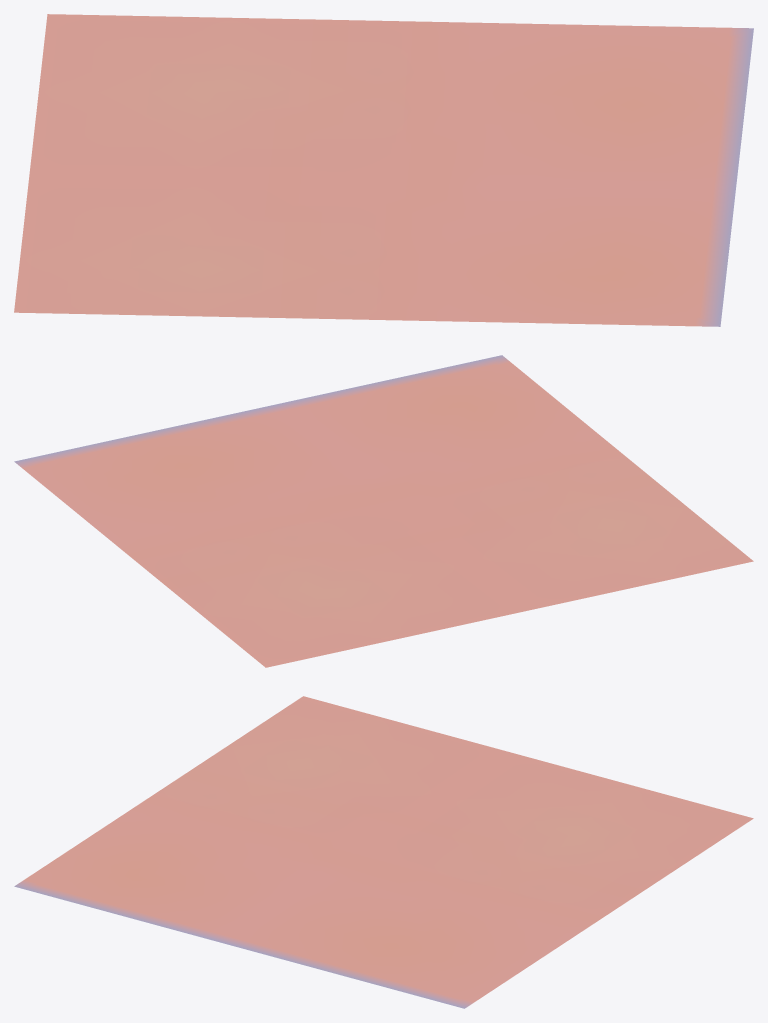
The model's file is Floor #478321.fbx.
3 views of the same model, one above another, from view 1: azimuth 30°, elevation 25°; view 2: azimuth 150°, elevation 25°; view 3: azimuth 270°, elevation 25° (orthographic). The views are drawn at different scales.
Visible parts, largest first — view 1: Floor; view 2: Floor; view 3: Floor.
Part boxes in pixels (box(x1,y1,x2,y2)): Floor: box(14, 14, 753, 326); Floor: box(14, 355, 753, 667); Floor: box(14, 696, 753, 1008).
Size of the model in its own units: 3040 by 9.62e-05 by 3040.
